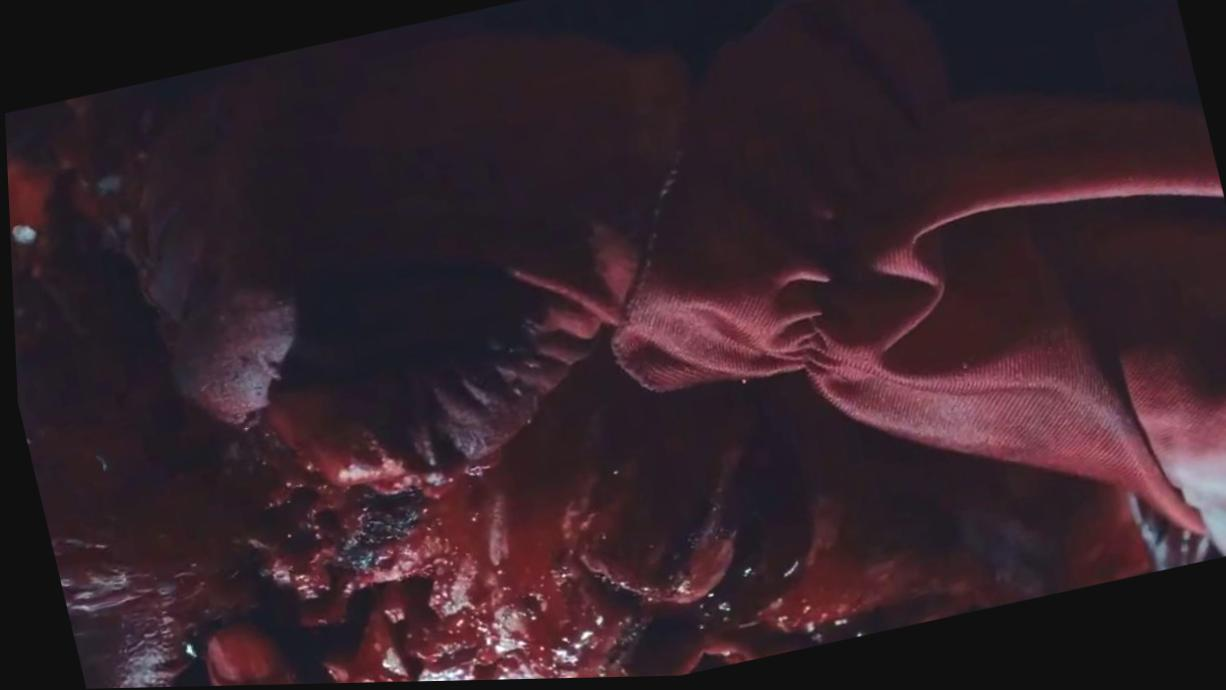Fire: (5, 0, 1226, 689)
